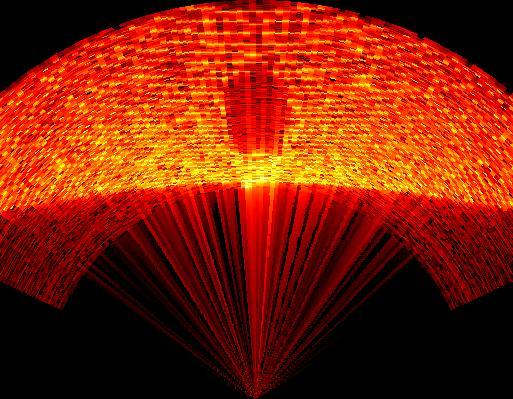box_crate: (223, 60, 292, 170)
